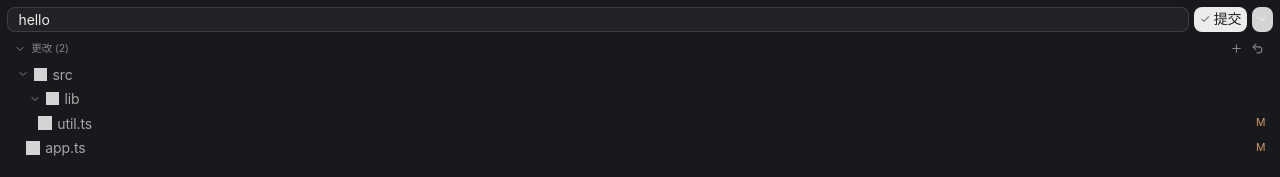
Test: ChangesSection › tree view groups files by directory and directory rows collapse
Expected: the element with test id "row-src/app.ts" is shown, top-left (19, 136), bottom-right (1273, 160)
Click the button with test id "dir-src". click: (23,74)
box: top-left (7, 62), bottom-right (1273, 86)
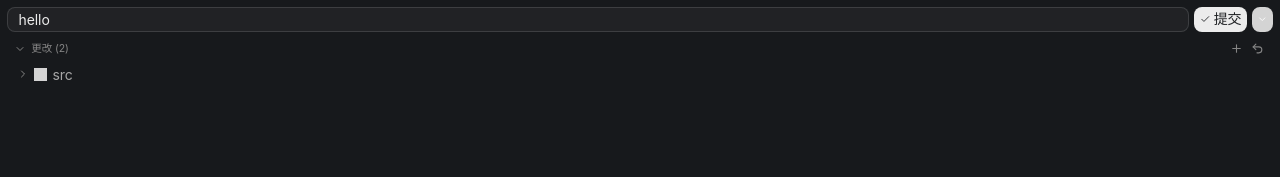
Click the button with test id "dir-src". click: (23,74)
box: top-left (7, 62), bottom-right (1273, 86)
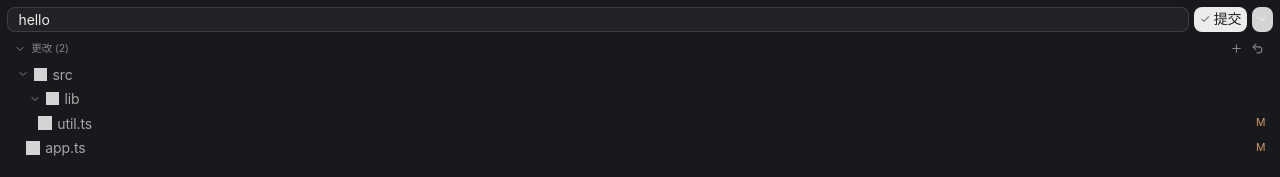
Result: the element with test id "row-src/app.ts" is shown at top-left (19, 136), bottom-right (1273, 160)
